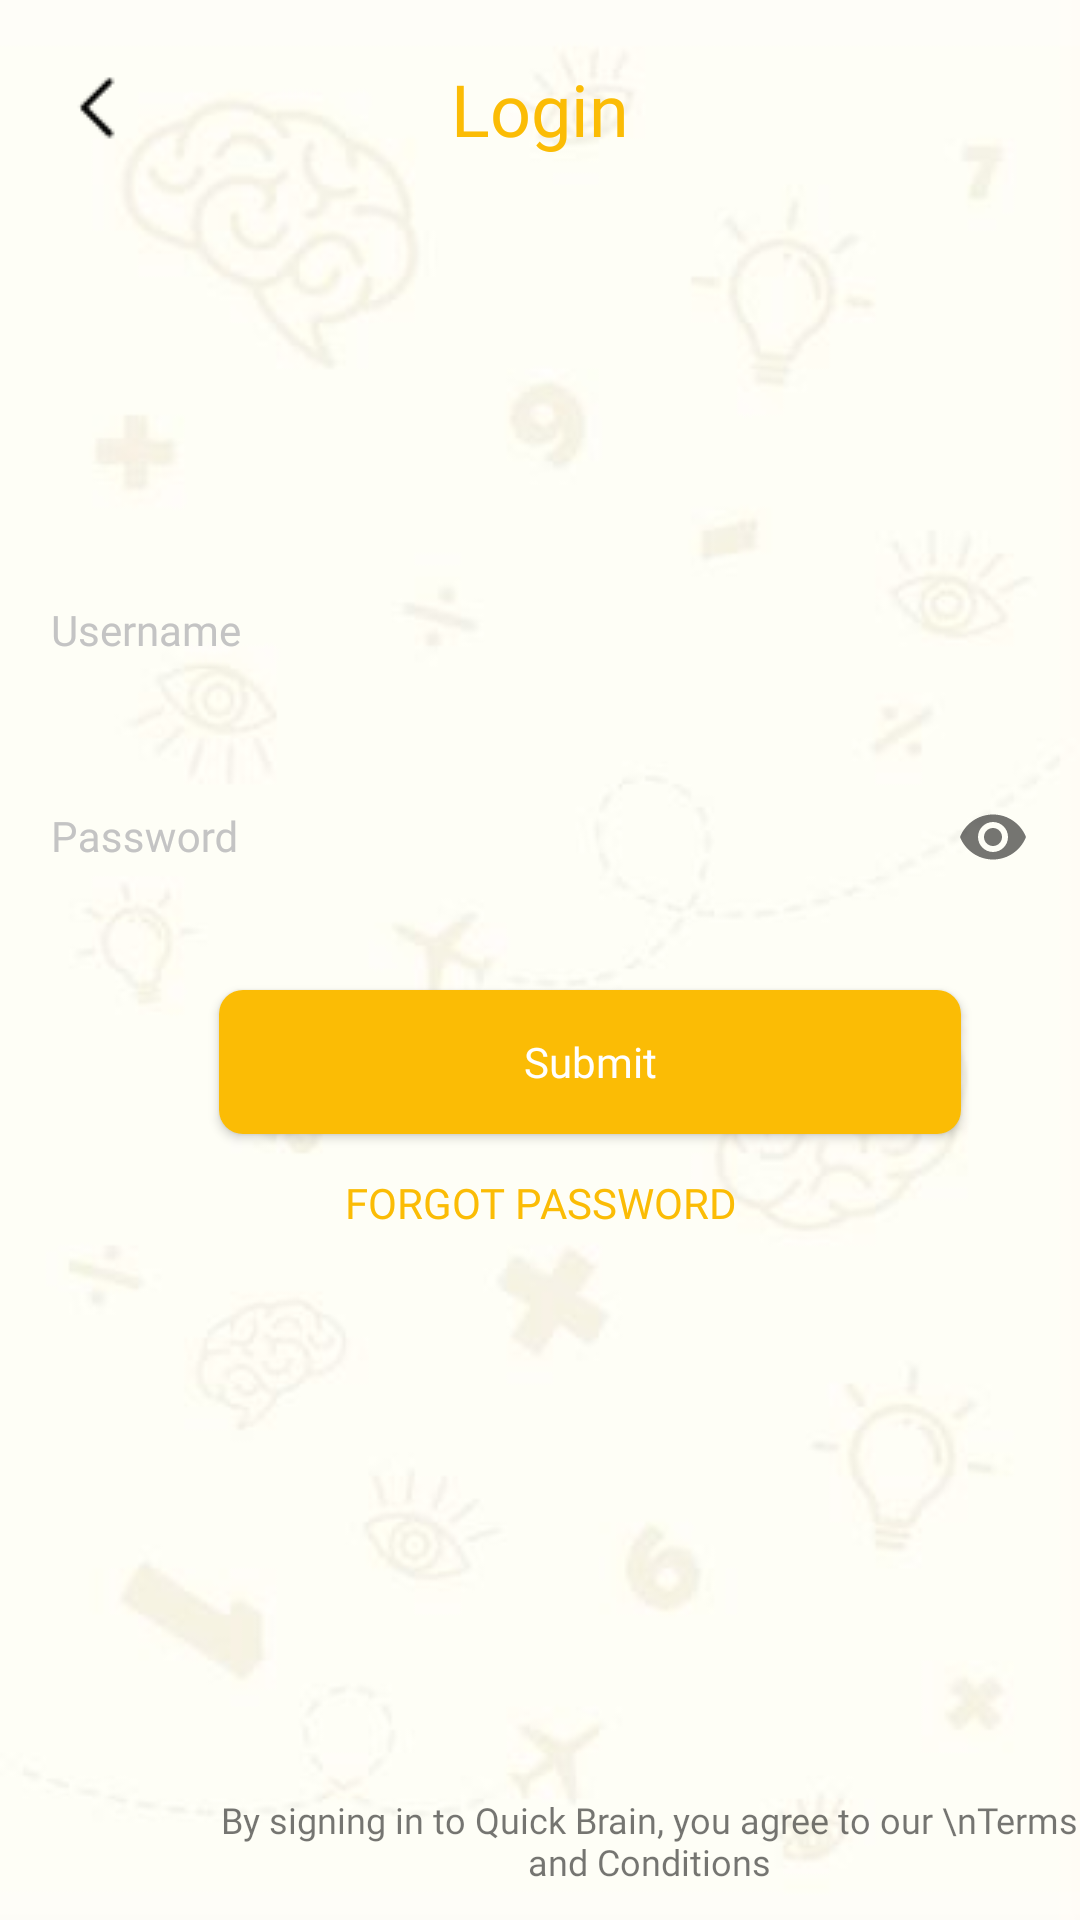

Icons on this 1080×1920 Android screen, each with its box as (x1, y1, x2, y2):
back: (80, 77, 115, 139)
